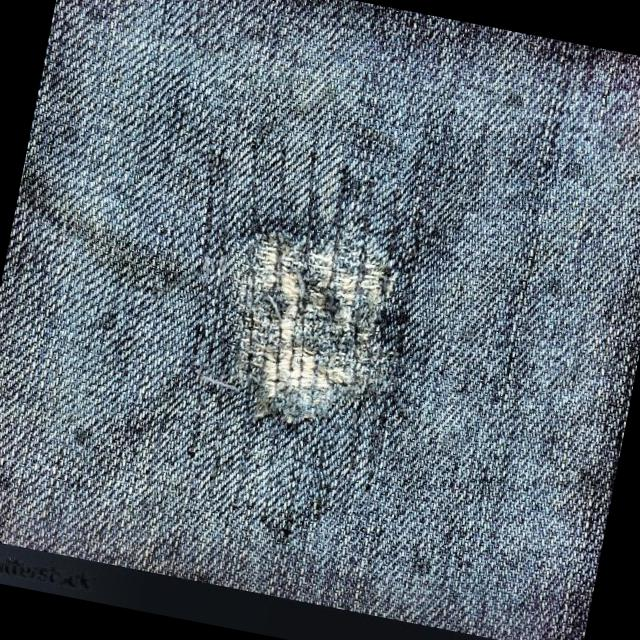cut: (174, 194, 438, 466)
